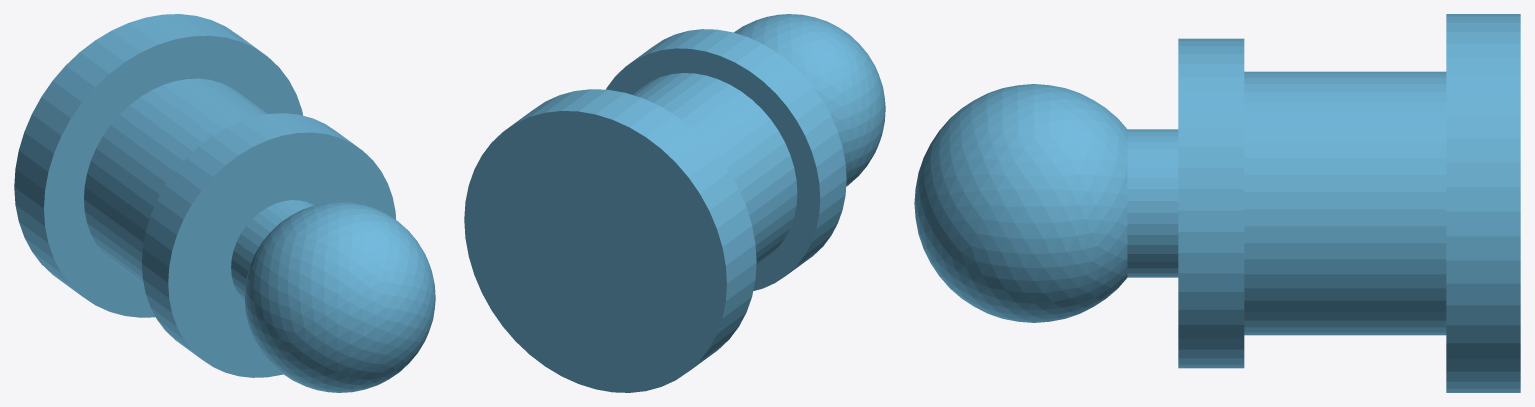
Rendered from pawn-blue.glb.
3 views of the same model, side by side, from view 1: azimuth 30°, elevation 25°; view 2: azimuth 150°, elevation 25°; view 3: azimuth 270°, elevation 25° (orthographic). The views are drawn at different scales.
Parts seen in each view (by area): view 1: shoulder, base, head, body, neck; view 2: base, shoulder, body, head; view 3: body, head, base, shoulder, neck.
Boxes of the visible parts, x1,y1,x2,y2 form: shoulder: [142, 113, 395, 377]; base: [14, 14, 302, 317]; head: [244, 202, 435, 392]; body: [84, 78, 267, 284]; neck: [231, 200, 313, 300]; base: [464, 89, 756, 392]; shoulder: [606, 29, 846, 290]; body: [632, 73, 797, 264]; head: [734, 14, 885, 186]; body: [1244, 71, 1446, 335]; head: [914, 84, 1127, 322]; base: [1446, 14, 1520, 392]; shoulder: [1178, 38, 1244, 368]; neck: [1127, 129, 1178, 277].
Bounding box in the file's own units: 0.92 × 0.92 × 1.47.
